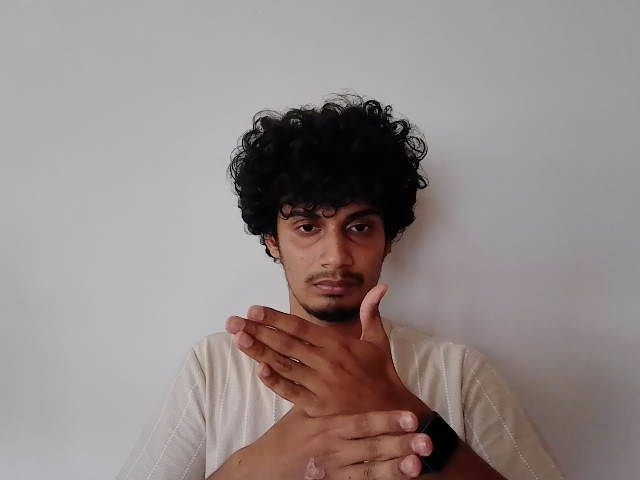busy: (225, 283, 431, 480)
